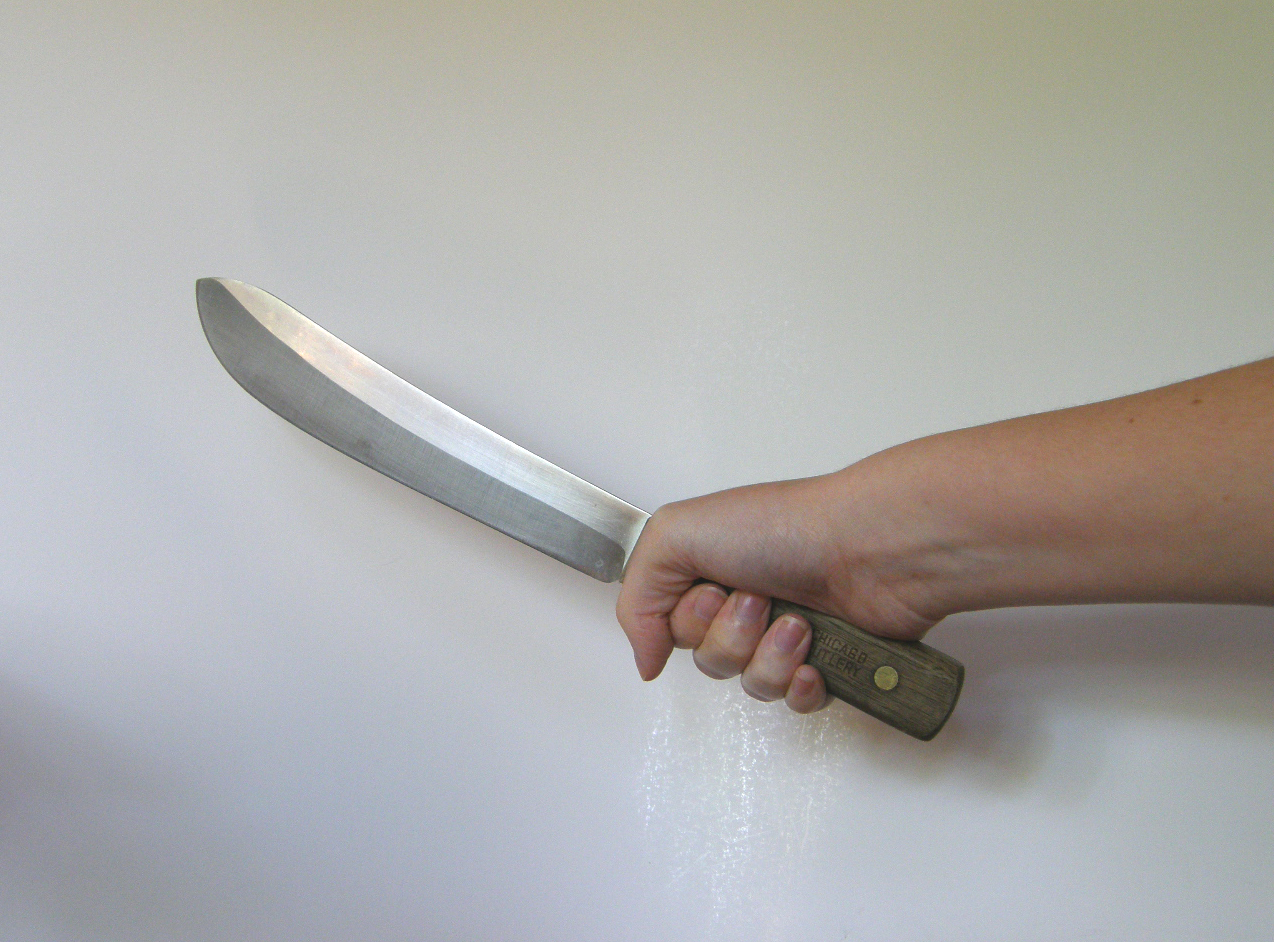knife: (138, 245, 804, 699)
